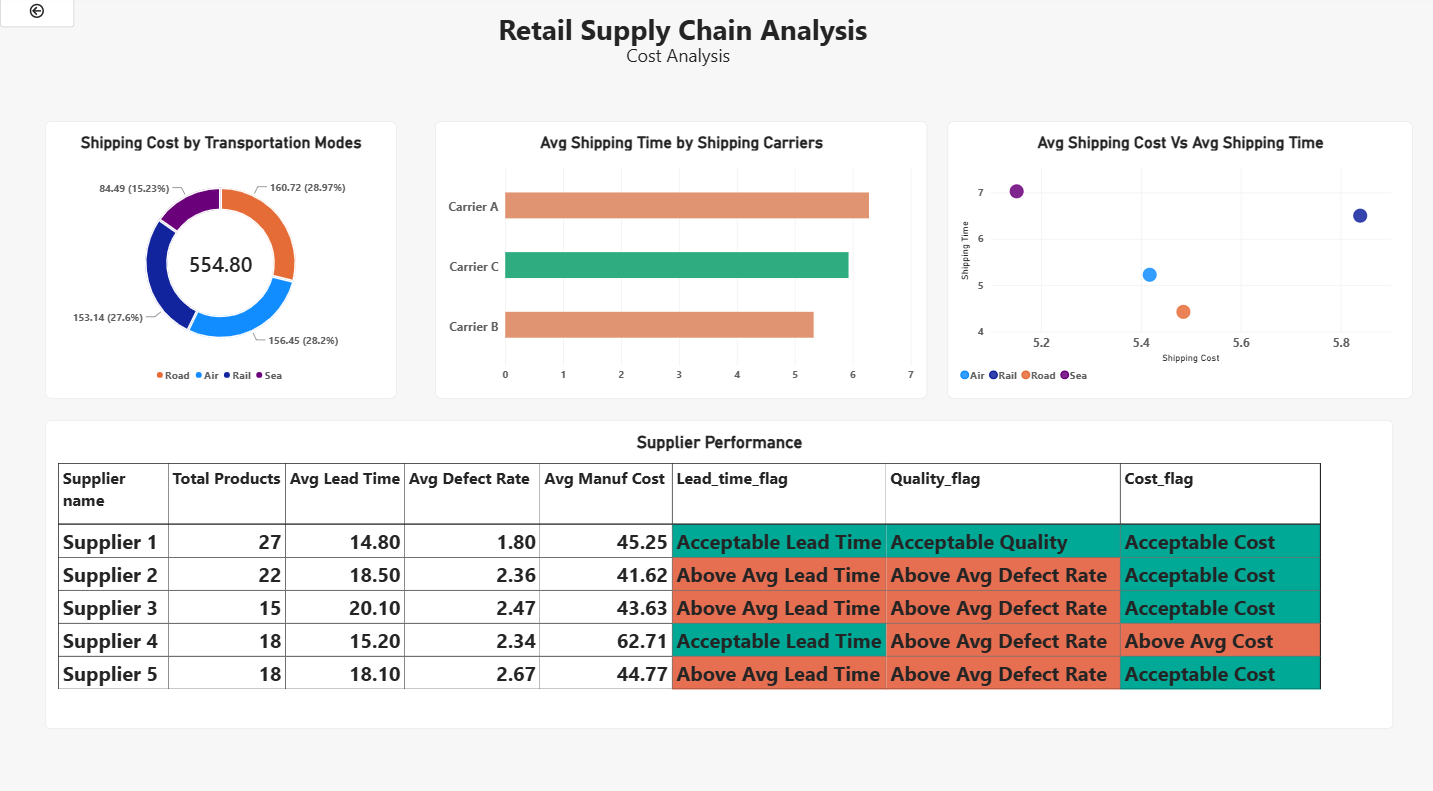

Layout of this report page (visuals, bound fields, positions):
{"tool":"powerbi","page":{"name":"Logistics & Cost Analysis","canvas":[1920,1080],"ordinal":2},"visuals":[{"type":"tableEx","title":"Supplier Performance","fields":{"Values":["vw_supplier_performance.Supplier name","Sum(vw_supplier_performance.Total_products)","Sum(vw_supplier_performance.Avg_lead_time)","Sum(vw_supplier_performance.Avg_defect_rate)","Sum(vw_supplier_performance.Avg_manufacturing_cost)","vw_supplier_performance.Lead_time_flag","vw_supplier_performance.Quality_flag","vw_supplier_performance.Cost_flag"]},"box":[59.5,568.4,1801,413.1],"z":0},{"type":"donutChart","title":"Shipping Cost by Transportation Modes","fields":{"Y":["Sum(vw_logistics_performance.Total_shipping_cost)"],"Category":["vw_logistics_performance.Transportation modes"]},"box":[59.5,168.5,469.3,370.1],"z":1000},{"type":"barChart","title":"Avg Shipping Time by Shipping Carriers","fields":{"Y":["Avg(vw_logistics_performance.Avg_shipping_time)"],"Category":["vw_logistics_performance.Shipping carriers"]},"box":[581.6,168.5,657.6,370.1],"z":2000},{"type":"scatterChart","title":"Avg Shipping Cost Vs Avg Shipping Time ","fields":{"Category":["vw_logistics_performance.Transportation modes"],"X":["Avg(vw_logistics_performance.Avg_shipping_cost)"],"Y":["Avg(vw_logistics_performance.Avg_shipping_time)"],"Series":["vw_logistics_performance.Transportation modes"]},"box":[1265.7,168.5,621.3,370.1],"z":3000},{"type":"actionButton","box":[0,0,99.1,43],"z":4000},{"type":"textbox","box":[306.6,19.3,1209.6,68.7],"z":6000},{"type":"textbox","box":[790.5,63.6,238.9,50.7],"z":7000}]}

Visuals, with their boxes in screenshot pixels (x1, y1, x2, y2), scaled from the page's 1920x1080 canvas onto the 1433x791 screenshot:
"Supplier Performance" tableEx: BBox(44, 416, 1389, 719)
"Shipping Cost by Transportation Modes" donutChart: BBox(44, 123, 395, 394)
"Avg Shipping Time by Shipping Carriers" barChart: BBox(434, 123, 925, 394)
"Avg Shipping Cost Vs Avg Shipping Time " scatterChart: BBox(945, 123, 1408, 394)
actionButton: BBox(0, 0, 74, 31)
textbox: BBox(229, 14, 1132, 64)
textbox: BBox(590, 47, 768, 84)
